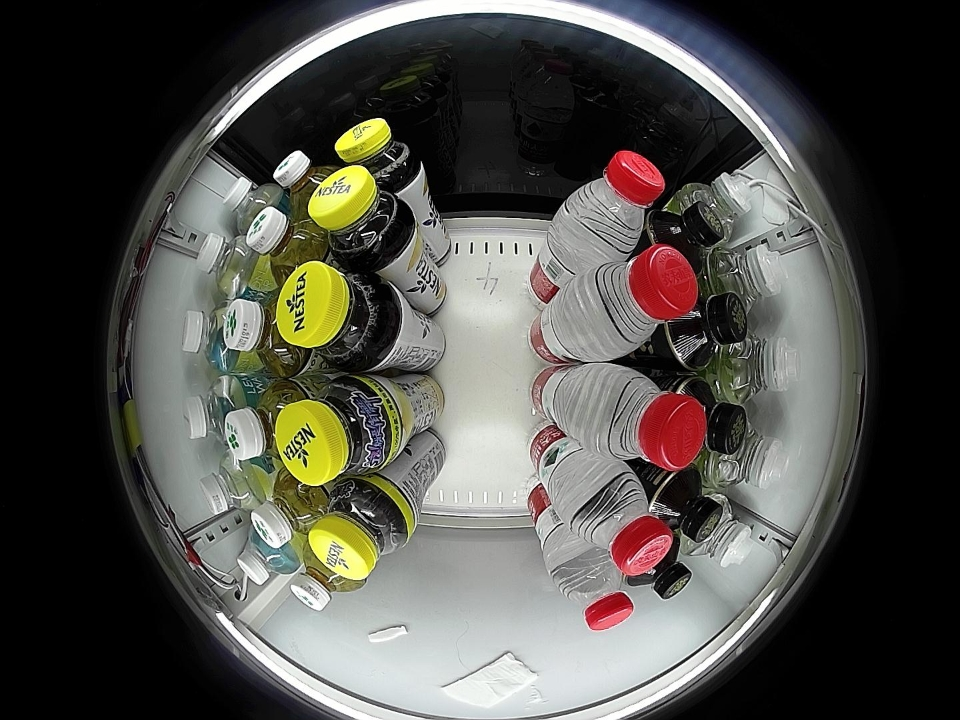baicha: (225, 297, 309, 377), (224, 380, 305, 462), (251, 472, 330, 548), (247, 207, 327, 279), (291, 548, 362, 611), (275, 150, 337, 215)
chacui: (275, 376, 401, 487), (277, 261, 401, 371), (309, 166, 414, 268), (310, 477, 414, 579), (336, 118, 420, 192)
jianjiao: (708, 418, 789, 490), (718, 332, 798, 404), (707, 244, 786, 314), (687, 493, 753, 568), (683, 173, 752, 241)
nongfushanquan: (568, 244, 698, 359), (584, 366, 705, 470), (568, 468, 673, 576), (559, 150, 665, 255), (553, 553, 635, 632)
qinningshui: (195, 232, 261, 298), (199, 453, 269, 515), (181, 303, 243, 372), (184, 376, 245, 442), (236, 529, 299, 585), (222, 177, 282, 232)
rancha-1: (665, 293, 747, 371), (677, 380, 750, 459), (649, 468, 723, 542), (648, 205, 724, 259), (631, 539, 692, 600)
